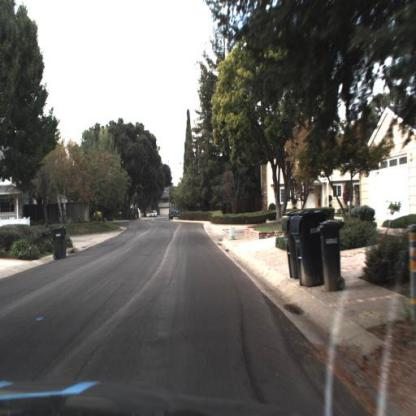car: (169, 203, 183, 221), (150, 211, 156, 219)
